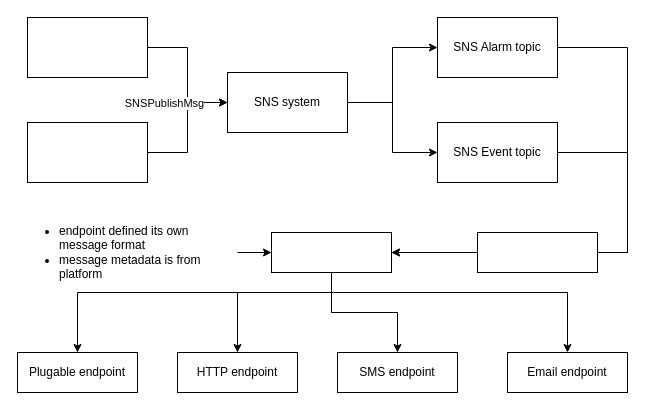
This 646x410 diagram has some shape labels left out. The centre of each missing label's shape, as x and y in pixels:
Abstract endpoint: the point at 331,252
Alarm system: the point at 87,47
Event system: the point at 87,152
SNS platform: the point at 537,252
